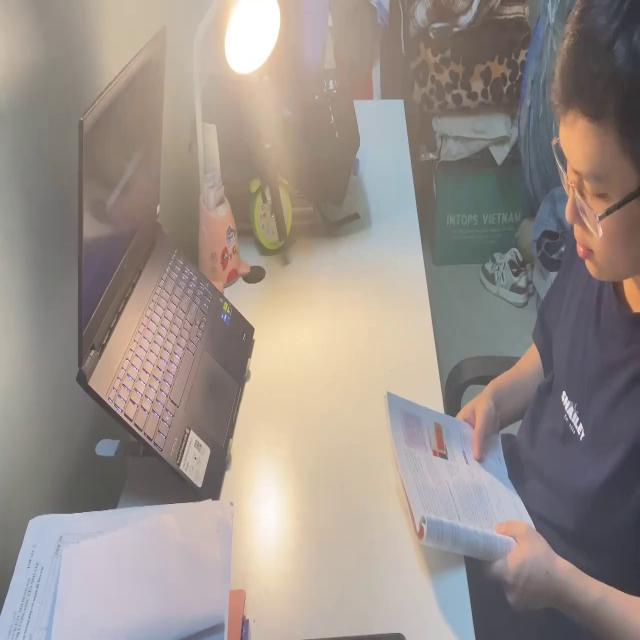book: (0, 503, 245, 640), (379, 382, 544, 577)
laptop: (70, 24, 264, 508)
student: (448, 6, 640, 640)
